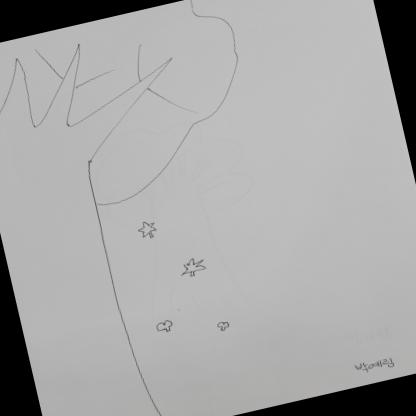branch_sharp: (0, 20, 189, 172)
crown_cloud: (0, 0, 276, 233)
trunk_straight: (3, 216, 154, 409)
